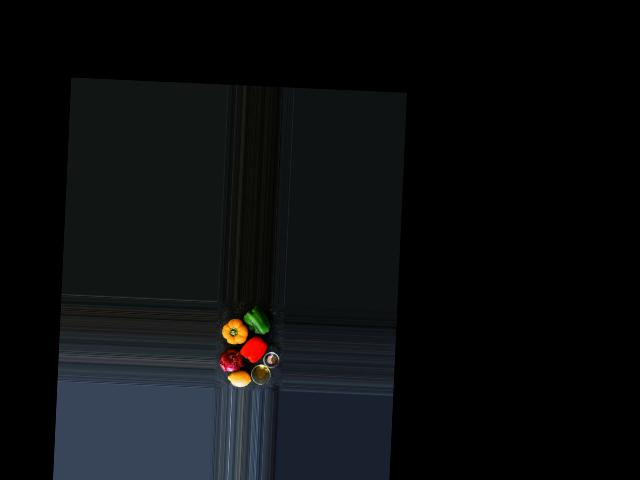bell_pepper: (238, 335, 268, 363)
